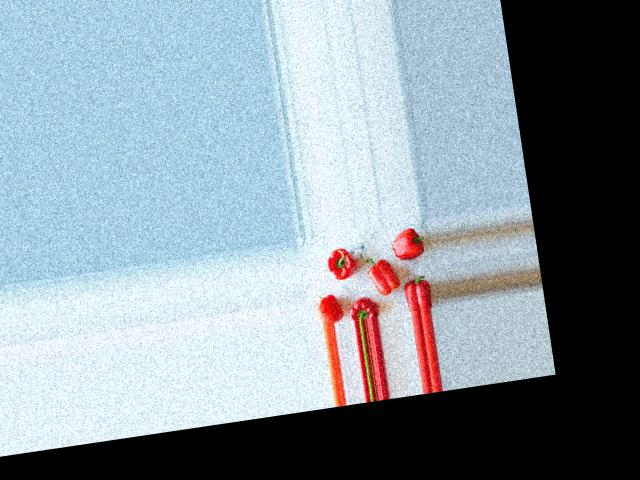bell_pepper: (347, 294, 380, 320)
